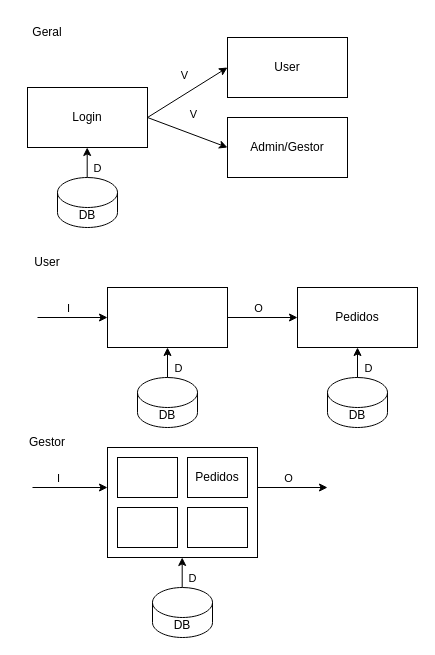
The diagram is 435 pixels wide and 655 high, and some of its shapes have lost their labels. The centre of each missing label's shape, as x and y in pixels:
"Inventário" belongs at pixel 147 527.
"Linha de Montagem" belongs at pixel 217 527.
"Loja" belongs at pixel 167 317.
"Partes" belongs at pixel 147 477.
